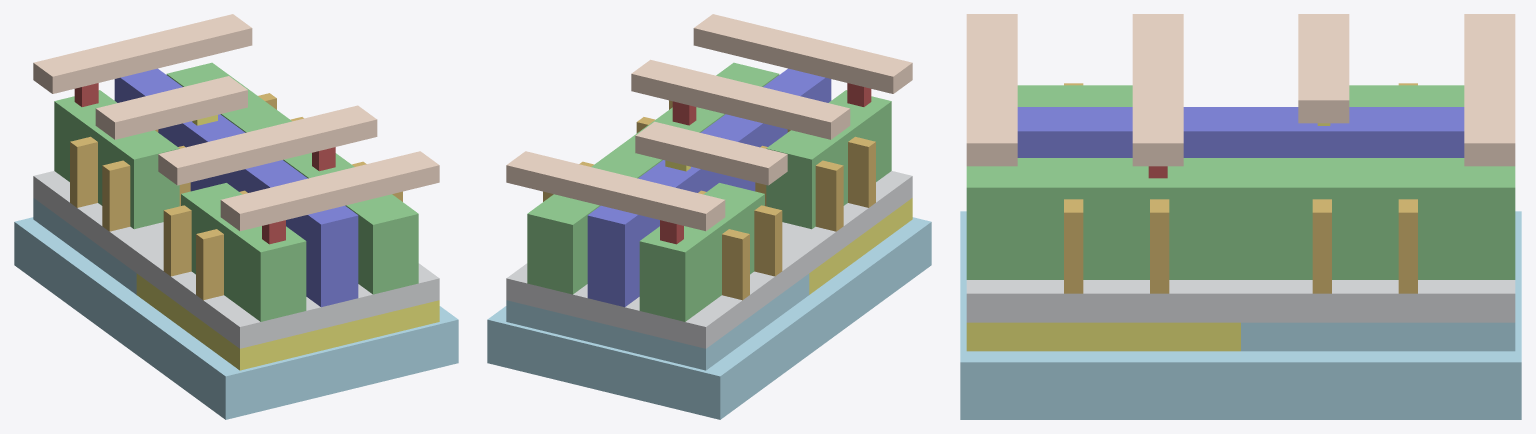
Rendered from show_fin.glb.
3 views of the same model, side by side, from view 1: azimuth 30°, elevation 25°; view 2: azimuth 150°, elevation 25°; view 3: azimuth 270°, elevation 25° (orthographic). The views are drawn at different scales.
Visible parts, largest first — view 1: pwell, fox, po, md_vdd, md_out, m0_out, m0_vdd, m0_gnd, md_gnd, nwell, m0_in, pwell_u (+7 smaller); view 2: pwell, fox, po, md_gnd, md_out, m0_gnd, m0_out, m0_vdd, md_vdd, pwell_u, m0_in, nwell (+7 smaller); view 3: md_out, pwell, fox, po, pwell_u, nwell, m0_gnd, m0_out, m0_vdd, m0_in, md_gnd, md_vdd (+4 smaller).
Part boxes in pixels (x1=…): pwell: x1=14, y1=217, x2=458, y2=419; fox: x1=33, y1=171, x2=439, y2=348; po: x1=114, y1=68, x2=358, y2=307; md_vdd: x1=181, y1=183, x2=306, y2=321; md_out: x1=166, y1=62, x2=418, y2=294; m0_out: x1=158, y1=105, x2=377, y2=185; m0_vdd: x1=220, y1=151, x2=439, y2=231; m0_gnd: x1=33, y1=14, x2=252, y2=93; md_gnd: x1=54, y1=90, x2=179, y2=229; nwell: x1=136, y1=273, x2=439, y2=370; m0_in: x1=95, y1=76, x2=247, y2=139; pwell_u: x1=33, y1=198, x2=136, y2=294; pwell: x1=487, y1=217, x2=931, y2=419; fox: x1=506, y1=171, x2=912, y2=348; po: x1=587, y1=68, x2=831, y2=307; md_gnd: x1=639, y1=183, x2=764, y2=321; md_out: x1=527, y1=62, x2=779, y2=294; m0_gnd: x1=506, y1=151, x2=725, y2=231; m0_out: x1=631, y1=59, x2=850, y2=139; m0_vdd: x1=693, y1=14, x2=912, y2=93; md_vdd: x1=766, y1=90, x2=891, y2=229; pwell_u: x1=506, y1=273, x2=809, y2=370; m0_in: x1=635, y1=121, x2=787, y2=185; nwell: x1=809, y1=198, x2=912, y2=294; md_out: x1=966, y1=158, x2=1515, y2=279; pwell: x1=960, y1=211, x2=1521, y2=419; fox: x1=966, y1=280, x2=1515, y2=322; po: x1=1017, y1=107, x2=1464, y2=157; pwell_u: x1=1241, y1=322, x2=1515, y2=351; nwell: x1=966, y1=322, x2=1240, y2=351; m0_gnd: x1=1464, y1=14, x2=1515, y2=166; m0_out: x1=1132, y1=14, x2=1183, y2=166; m0_vdd: x1=966, y1=14, x2=1017, y2=166; m0_in: x1=1298, y1=14, x2=1349, y2=123; md_gnd: x1=1349, y1=85, x2=1464, y2=106; md_vdd: x1=1017, y1=85, x2=1132, y2=106.
Bounding box in the file's own units: 112 × 92 × 176.
